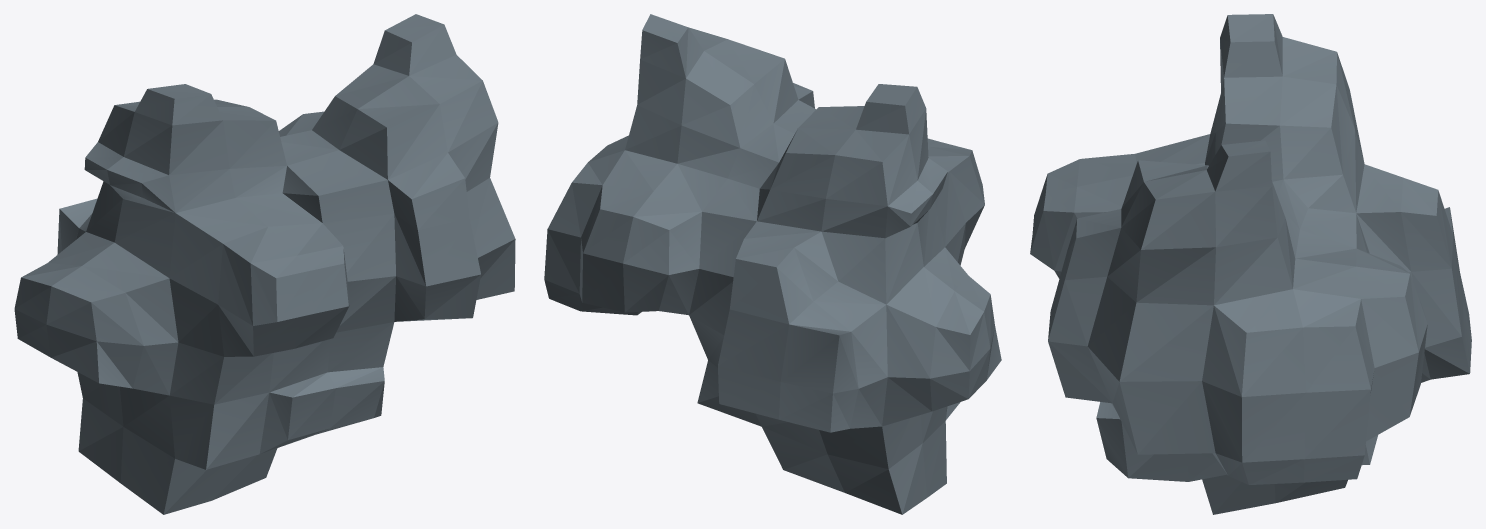
Rendered from metal rock4.fbx.
3 views of the same model, side by side, from view 1: azimuth 30°, elevation 25°; view 2: azimuth 150°, elevation 25°; view 3: azimuth 270°, elevation 25° (orthographic). The views are drawn at different scales.
Visible parts, largest first — view 1: rock4; view 2: rock4; view 3: rock4.
Boxes of the visible parts, bbox=[...] form: rock4: bbox=[14, 14, 515, 514]; rock4: bbox=[544, 14, 1001, 514]; rock4: bbox=[1030, 14, 1471, 514].
Bounding box in the file's own units: 339 × 305 × 258.
